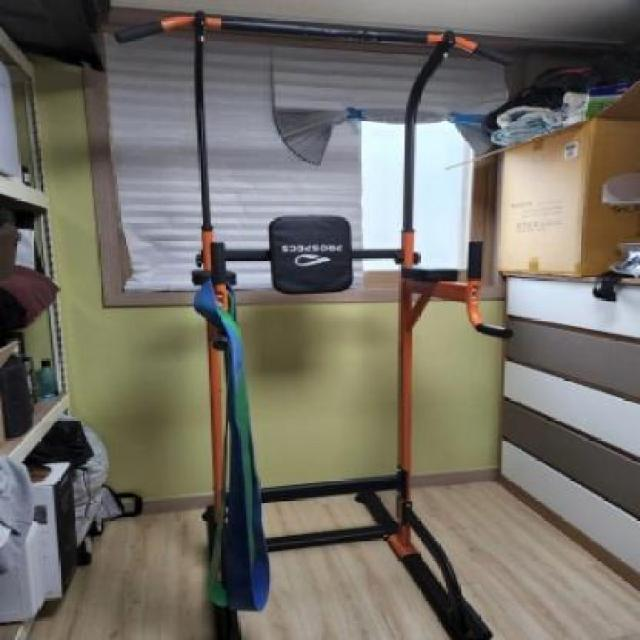chinning dipping: (116, 7, 509, 640)
